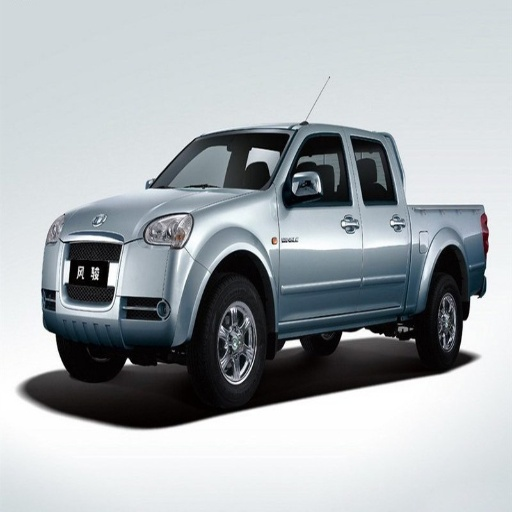back_left_door: (347, 133, 405, 304)
front_bumper: (42, 231, 208, 348)
front_glass: (149, 134, 288, 188)
front_left_door: (279, 132, 362, 318)
trunk: (406, 206, 491, 307)
